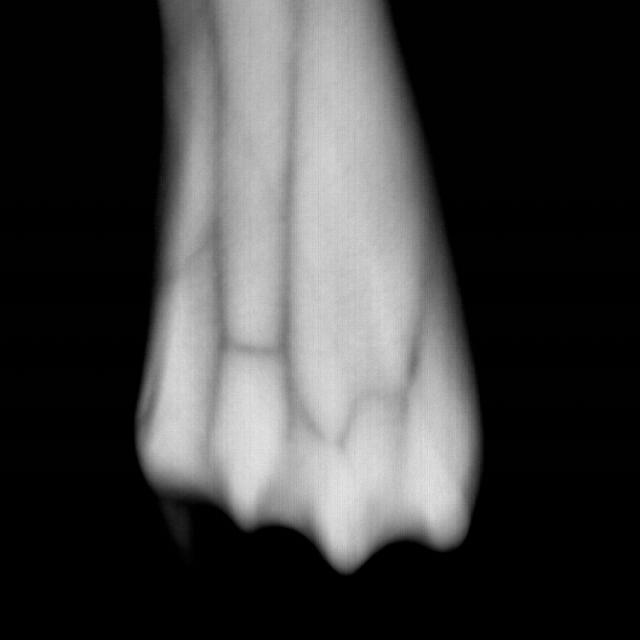Vein: (213, 85, 299, 416)
